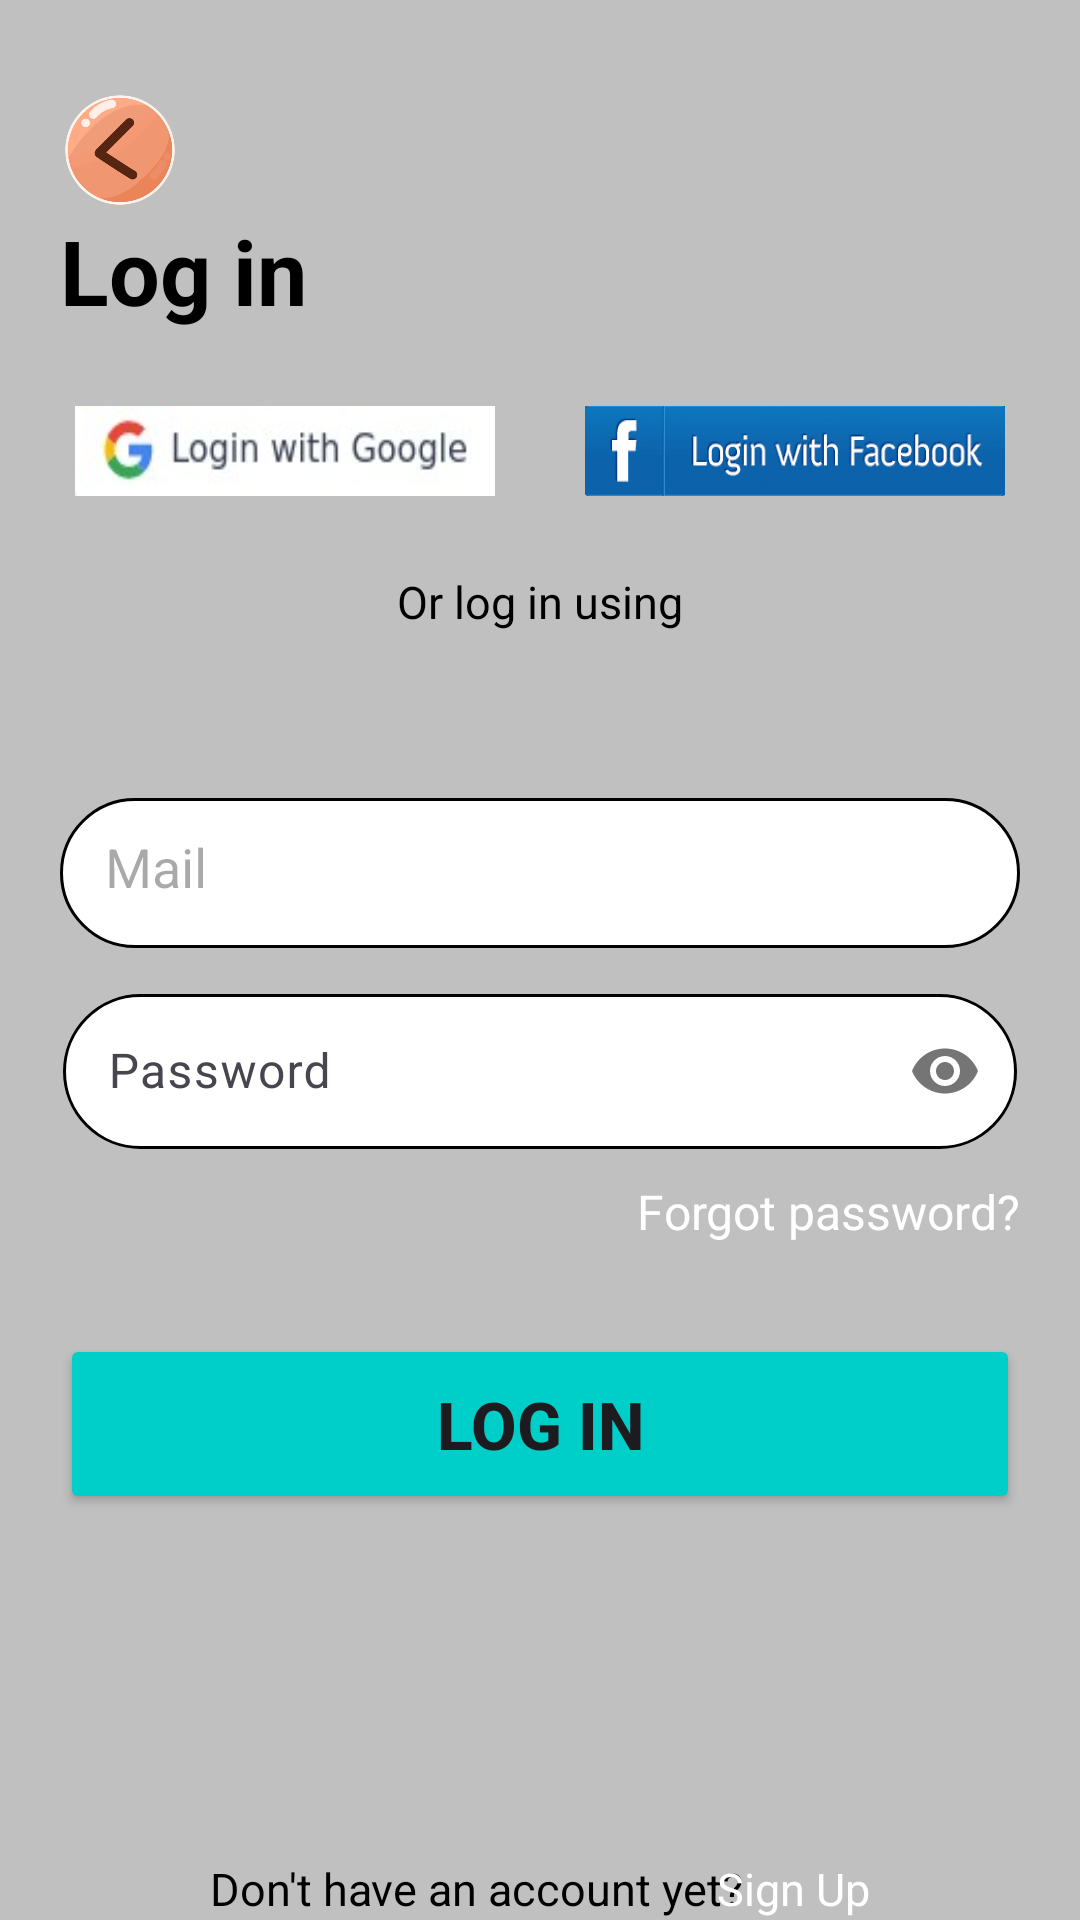

Where icons sit on this 1080px×1920px app screen, as (x1, y1, x2, y2):
btnbach: (65, 95, 175, 205)
